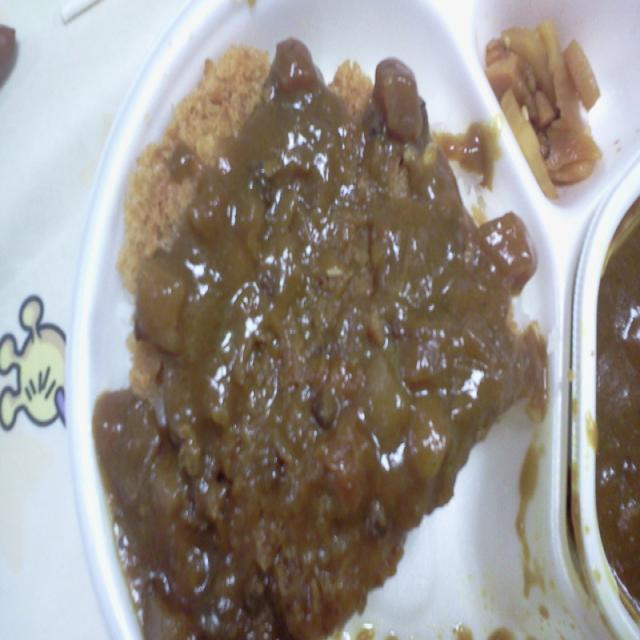Beef Curry: (80, 19, 554, 616)
